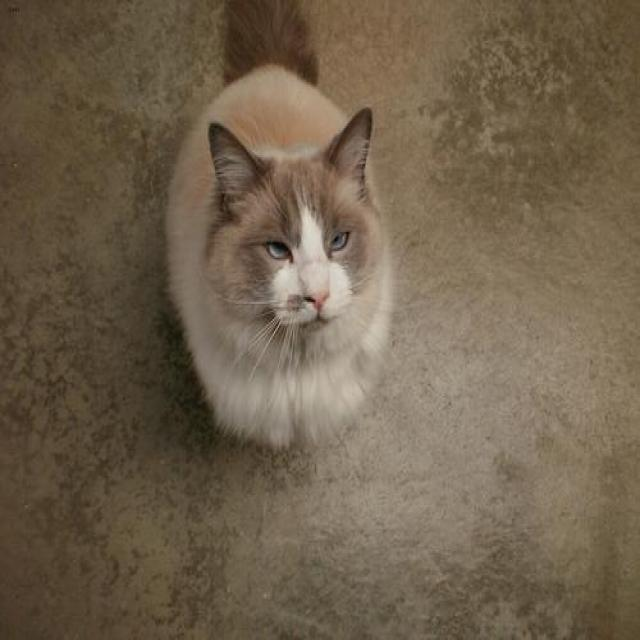cat: (163, 0, 390, 447)
